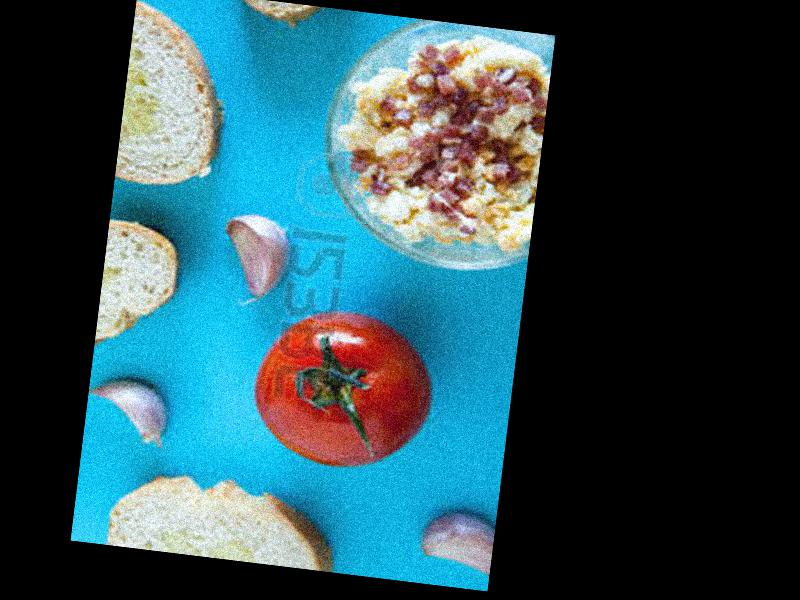Tomato: (245, 307, 438, 476)
